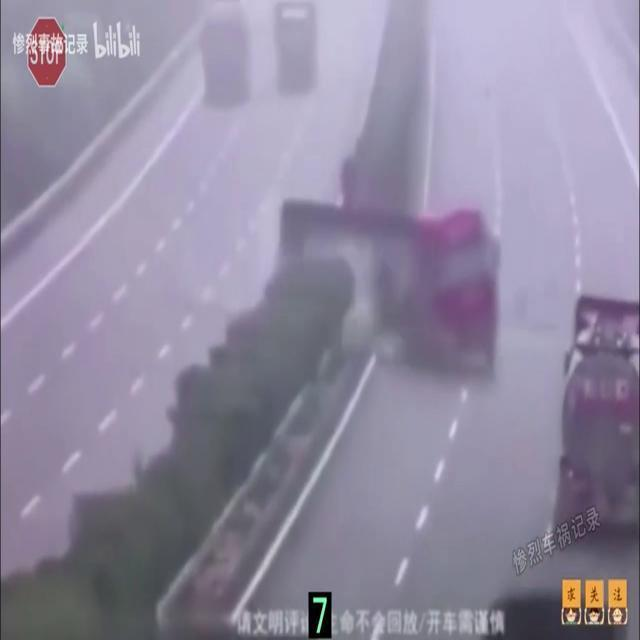accident: (277, 197, 499, 373)
